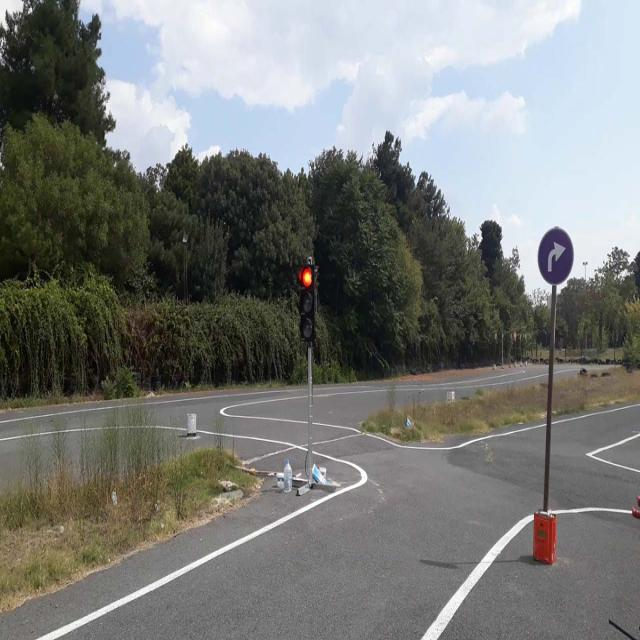kirmizi: (301, 264, 316, 341)
sag: (538, 231, 573, 282)
